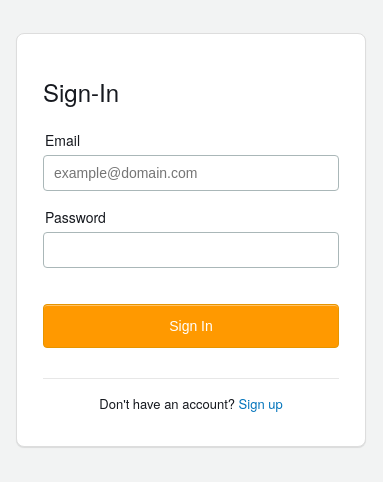
Test: Login Component › displays error message on failed login
# Fill out the form
Type "wrong@example.com" into the field labelled "Email".
click(191, 173); type("wrong@example.com")  # box [43,155,339,191]
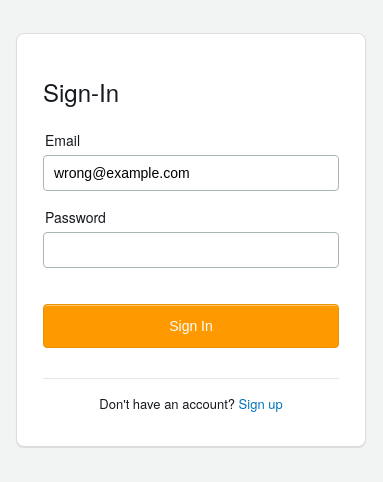
Type "wrongpassword" into the password field labelled "Password".
click(191, 250); type("wrongpassword")  # box [43,232,339,268]
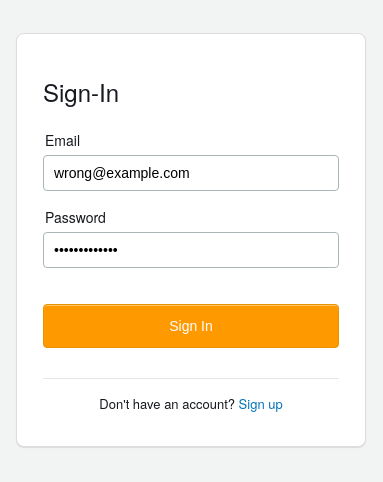
# Submit the form
Click the button "Sign In".
click(191, 326)  # box [43,304,339,348]
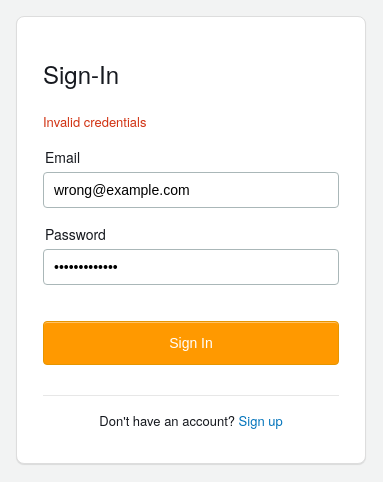
Result: the text "Invalid credentials" is shown at [43,112,146,132]
